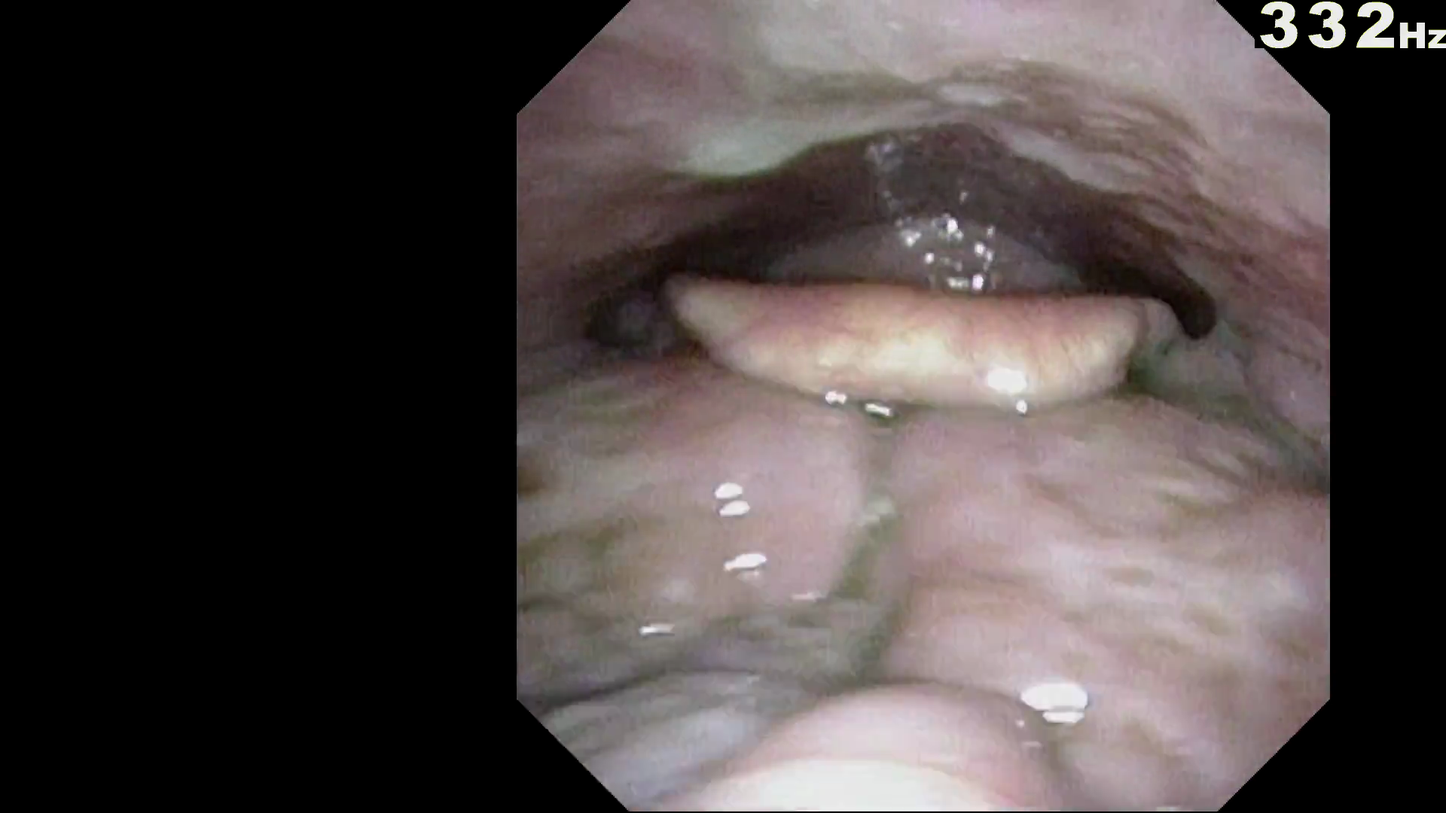epiglottis: (618, 289, 1230, 453)
